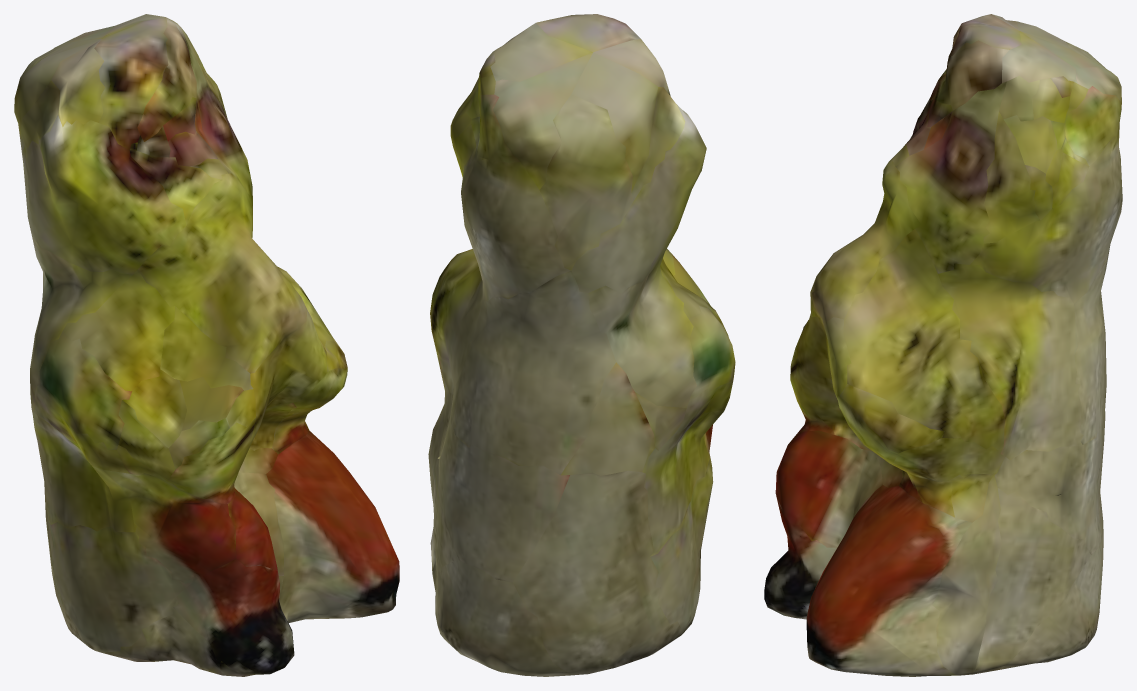
File: hall.glb
3 views of the same model, side by side, from view 1: azimuth 30°, elevation 25°; view 2: azimuth 150°, elevation 25°; view 3: azimuth 270°, elevation 25° (orthographic). The views are drawn at different scales.
Size of the model in its own units: 0.3665 by 0.7234 by 0.3963.
1 material, 1 textured.
